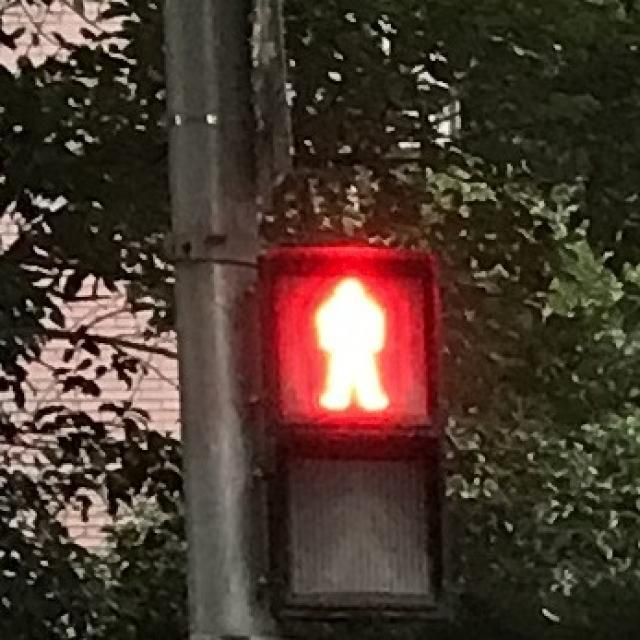red_light: (271, 256, 424, 426)
